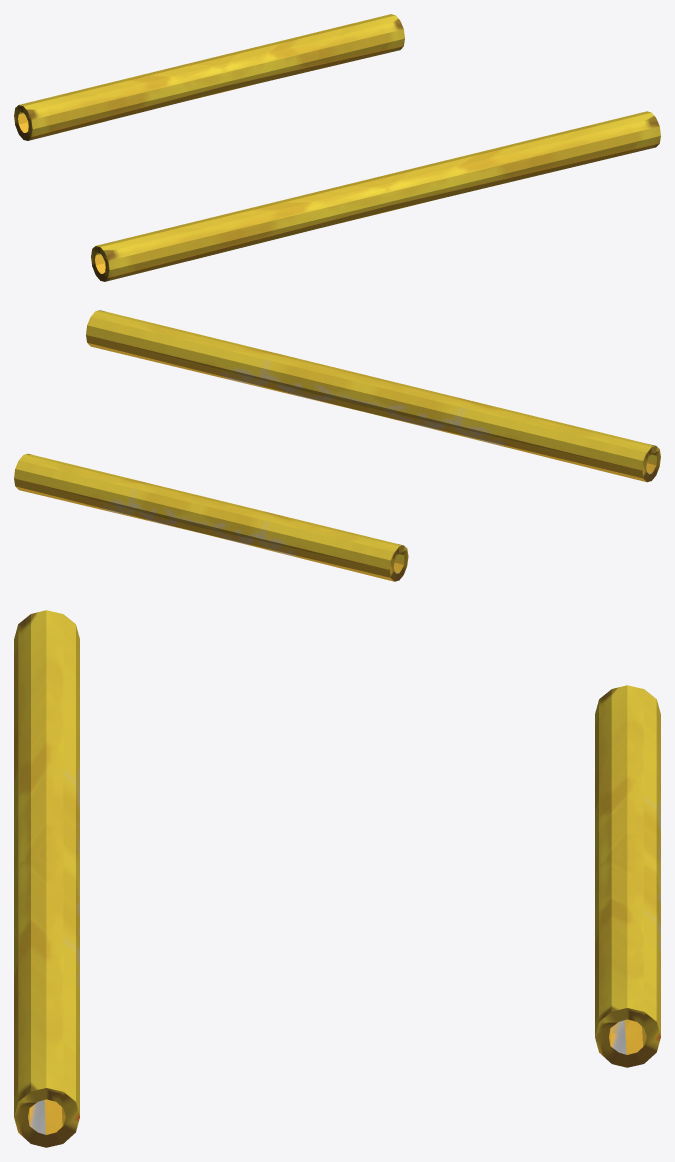
Rendered from Linewire.fbx.
3 renders of one model, top to bottom at view 1: azimuth 30°, elevation 25°; view 2: azimuth 150°, elevation 25°; view 3: azimuth 270°, elevation 25°, orthographic. The views are drawn at different scales.
Parts seen in each view (by area): view 1: Object002, Object001; view 2: Object002, Object001; view 3: Object002, Object001.
Boxes of the visible parts, x1,y1,x2,y2 form: Object002: (91,111,660,281); Object001: (14,14,404,140); Object002: (86,310,660,482); Object001: (14,453,408,581); Object002: (14,610,79,1147); Object001: (595,685,660,1067).
Size of the model in its own units: 80.04 by 4.68 by 45.82.
